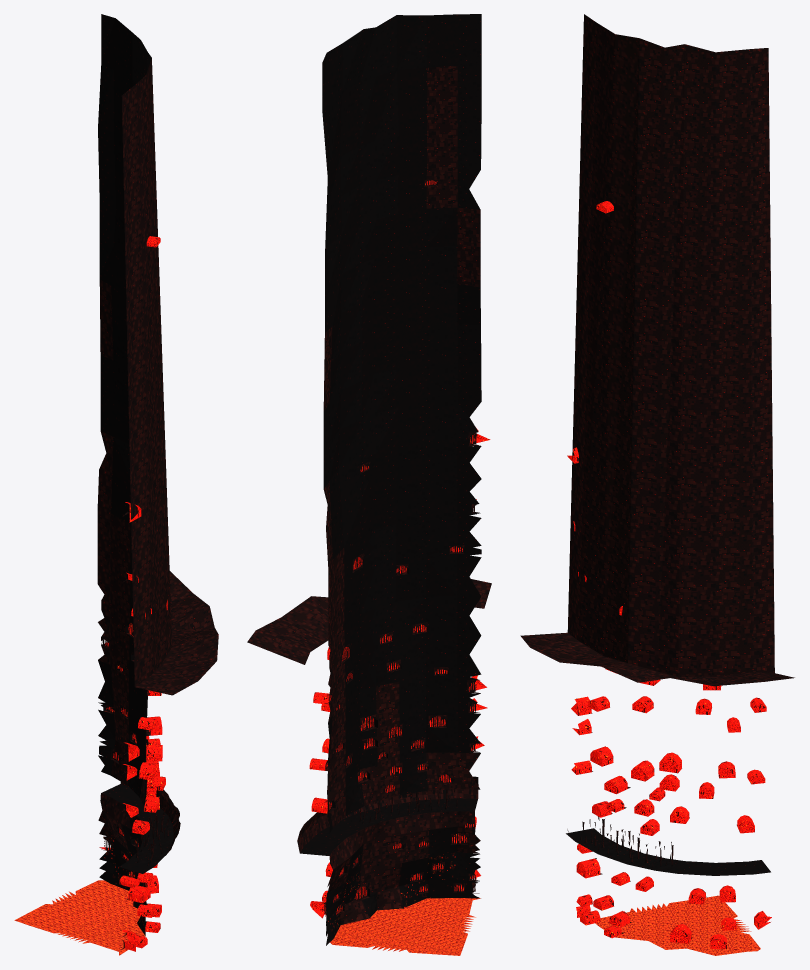
The model's file is map_base_s1.glb.
3 renders of one model, left to right at view 1: azimuth 30°, elevation 25°; view 2: azimuth 150°, elevation 25°; view 3: azimuth 270°, elevation 25°, orthographic. The views are drawn at different scales.
Parts seen in each view (by area): view 1: MapBaseS1Rock; view 2: MapBaseS1Rock; view 3: MapBaseS1Rock.
Boxes of the visible parts, bbox=[...] form: MapBaseS1Rock: bbox=[14, 14, 218, 955]; MapBaseS1Rock: bbox=[247, 14, 491, 955]; MapBaseS1Rock: bbox=[520, 14, 794, 955].
Size of what is drawn, in the model's own units: 73.38 by 343 by 94.02.
5 materials, 5 textured.
